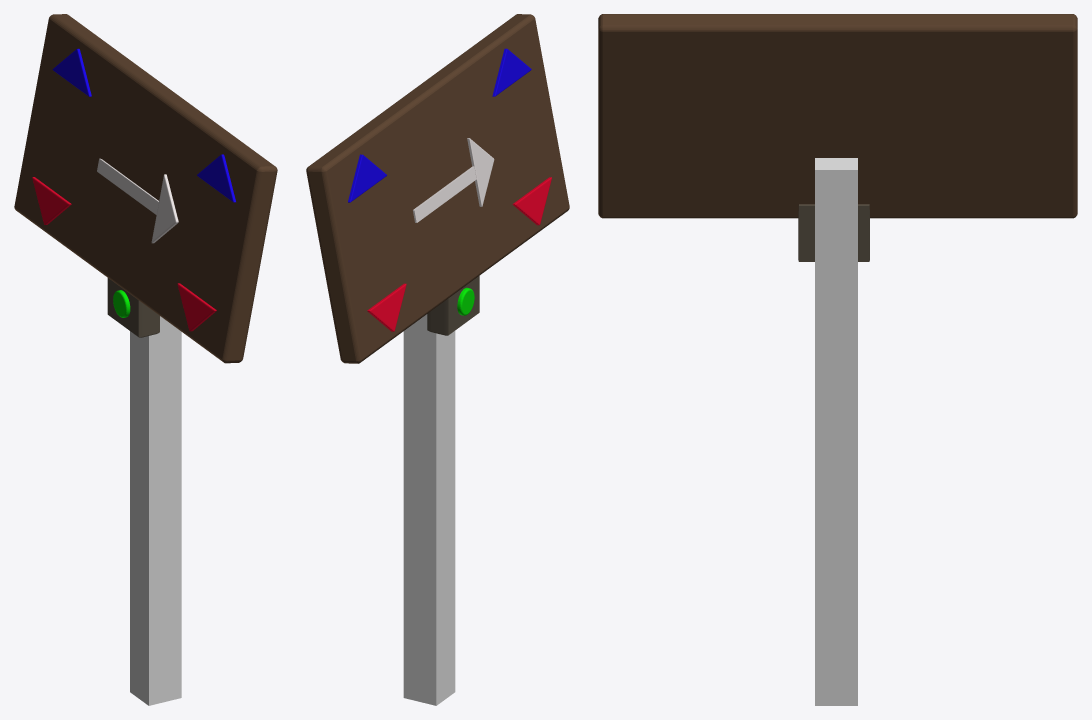
The model's file is ControllerV2.fbx.
3 views of the same model, side by side, from view 1: azimuth 30°, elevation 25°; view 2: azimuth 150°, elevation 25°; view 3: azimuth 270°, elevation 25° (orthographic). The views are drawn at different scales.
Visible parts, largest first — view 1: Cube.037, Cube.045, Cube.044, Cube.043, Cube.042, Cube.040, Cube.041, Cube.039, Cube.038; view 2: Cube.037, Cube.045, Cube.044, Cube.043, Cube.042, Cube.041, Cube.040, Cube.038, Cube.039; view 3: Cube.037, Cube.045, Cube.044.
Part boxes in pixels (x1=…): Cube.037: x1=14, y1=14, x2=277, y2=363; Cube.045: x1=130, y1=316, x2=181, y2=705; Cube.044: x1=107, y1=278, x2=159, y2=337; Cube.043: x1=97, y1=158, x2=158, y2=214; Cube.042: x1=151, y1=174, x2=178, y2=243; Cube.040: x1=177, y1=283, x2=216, y2=331; Cube.041: x1=32, y1=177, x2=71, y2=224; Cube.039: x1=197, y1=154, x2=235, y2=202; Cube.038: x1=52, y1=48, x2=91, y2=96; Cube.037: x1=306, y1=14, x2=569, y2=363; Cube.045: x1=403, y1=314, x2=455, y2=705; Cube.044: x1=427, y1=276, x2=479, y2=335; Cube.043: x1=413, y1=166, x2=476, y2=222; Cube.042: x1=467, y1=138, x2=494, y2=206; Cube.041: x1=367, y1=283, x2=406, y2=331; Cube.040: x1=512, y1=177, x2=551, y2=225; Cube.038: x1=348, y1=154, x2=386, y2=202; Cube.039: x1=492, y1=48, x2=531, y2=96; Cube.037: x1=598, y1=14, x2=1077, y2=218; Cube.045: x1=815, y1=158, x2=857, y2=705; Cube.044: x1=798, y1=204, x2=869, y2=261.
Bounding box in the file's own units: 64.84 × 659 × 419.
